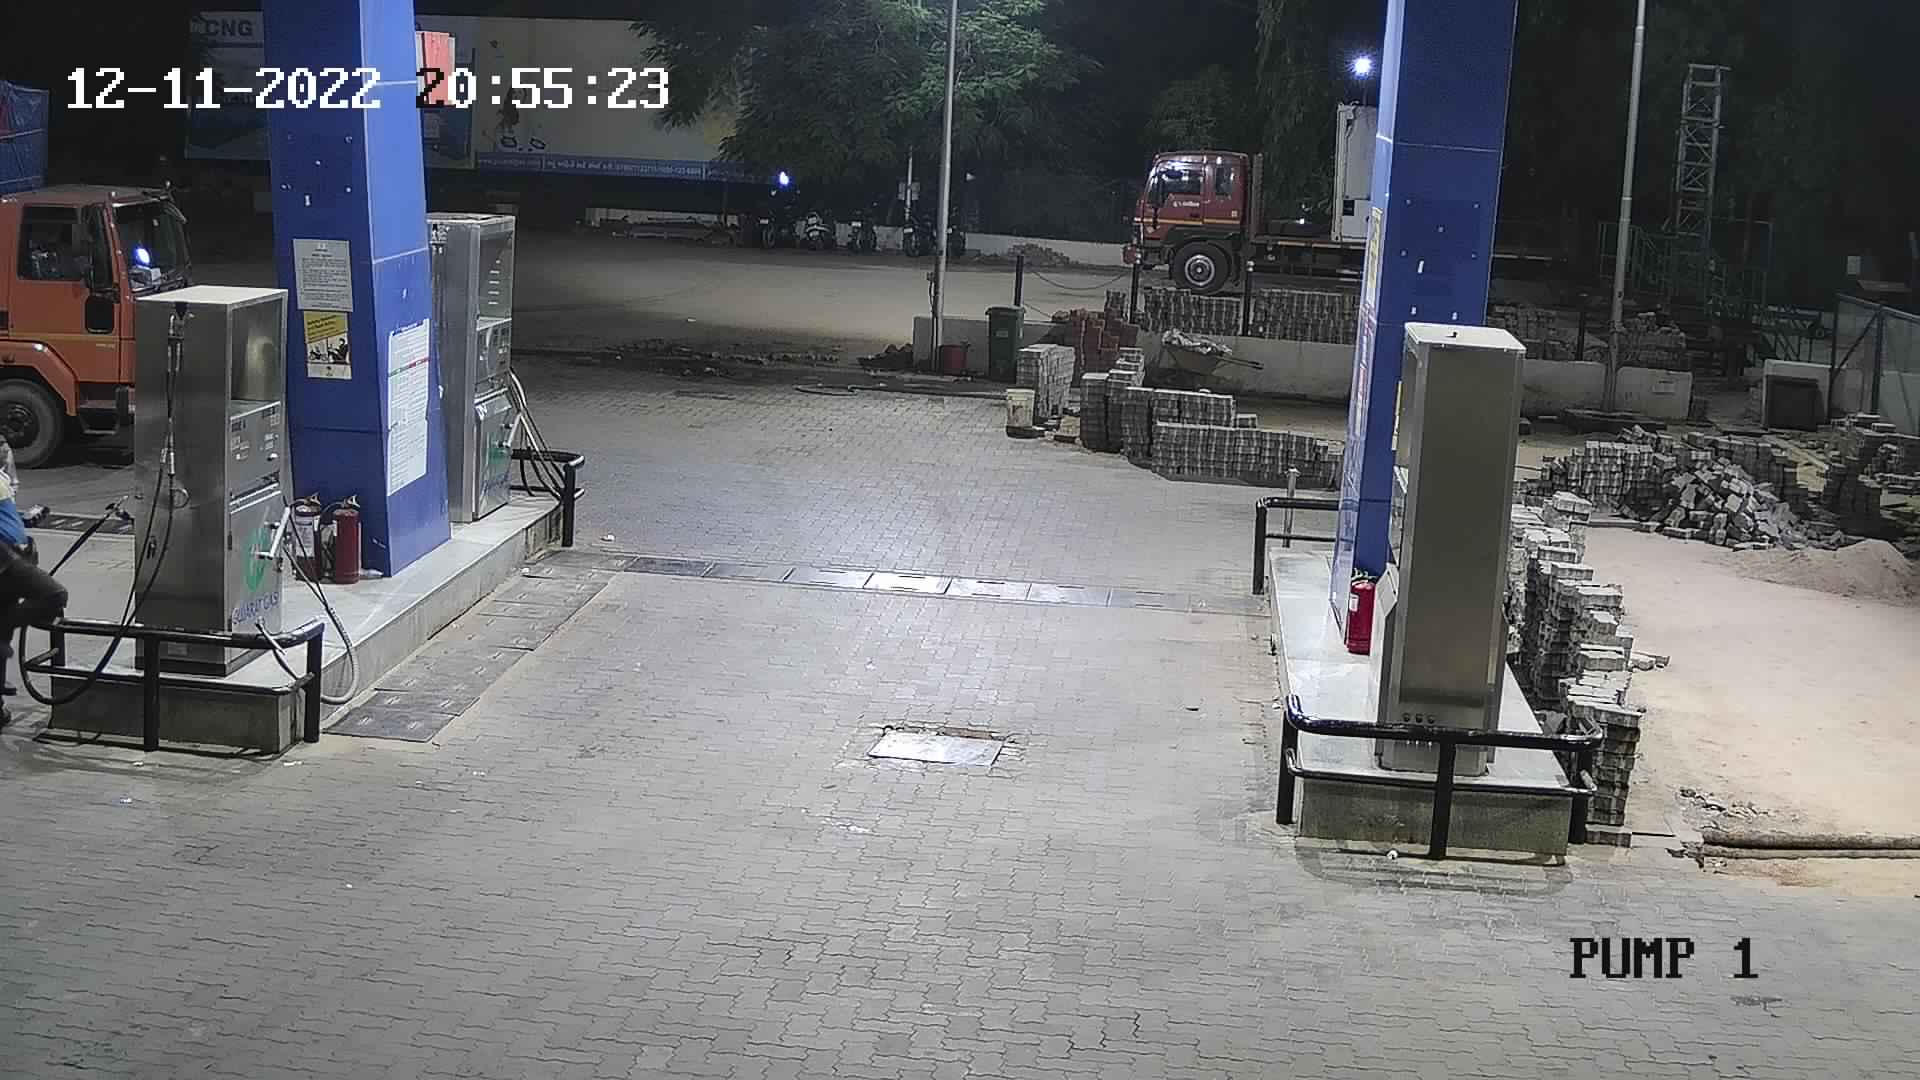Bike: (746, 181, 807, 252), (795, 187, 851, 257), (843, 191, 891, 264), (895, 191, 938, 262)
HMV: (0, 47, 202, 476), (1113, 90, 1375, 305)
Others: (0, 404, 67, 737)
